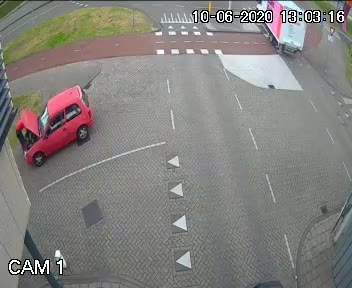car: (20, 85, 96, 155), (248, 0, 307, 55)
